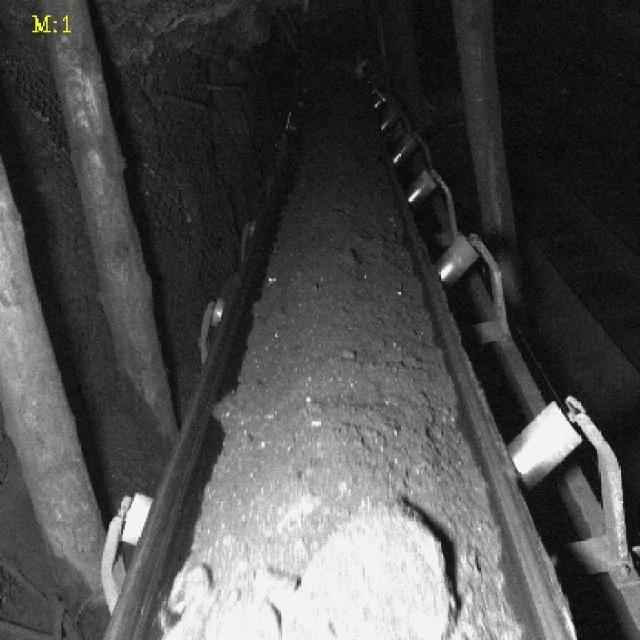large_sized_coal: (300, 495, 457, 640), (203, 601, 281, 640)
